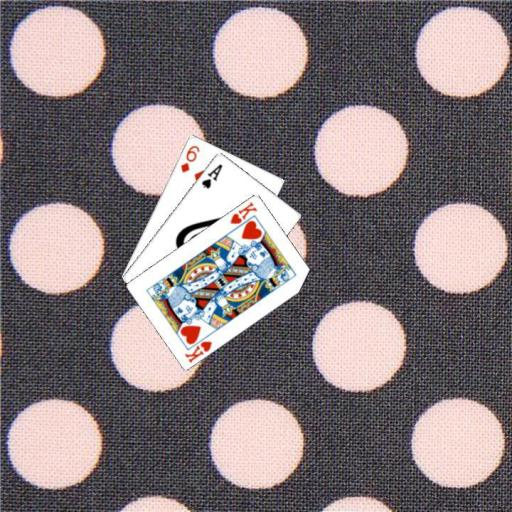6D: (177, 142, 201, 174)
AS: (198, 161, 224, 190)
KH: (181, 337, 214, 364), (227, 199, 259, 226)
